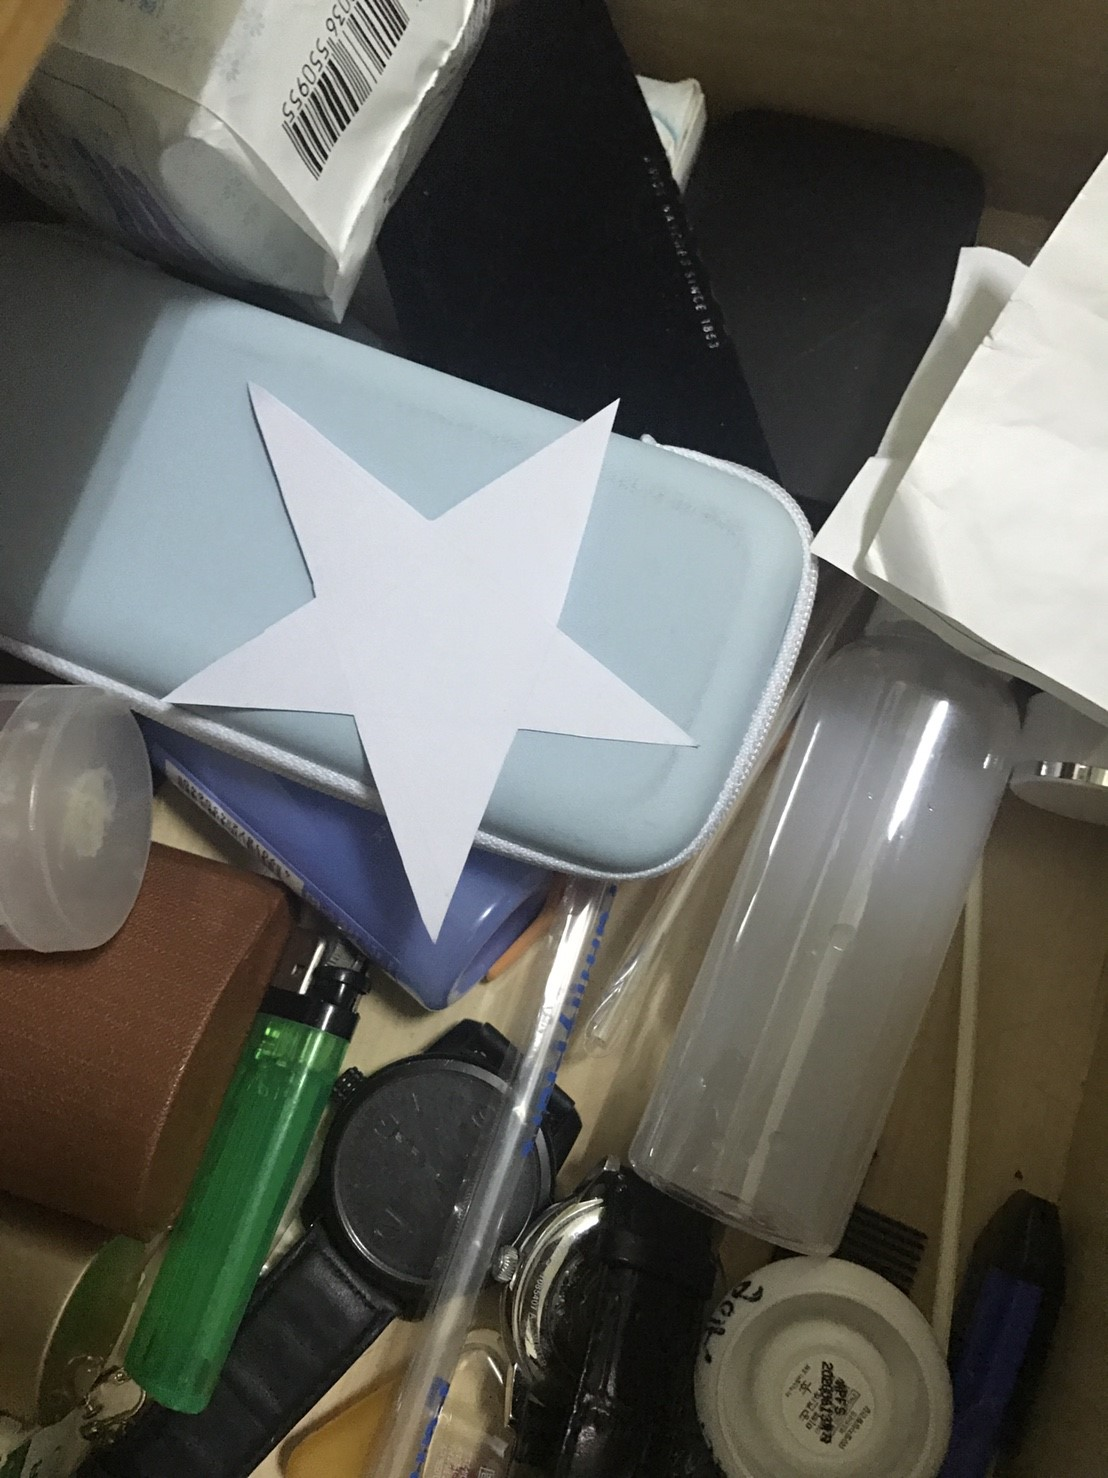star: (125, 357, 701, 1006)
